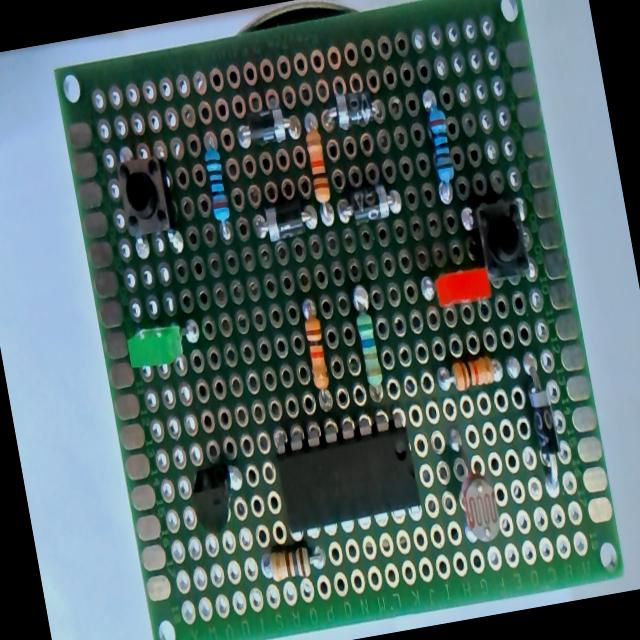IC: (268, 418, 424, 536)
cds: (446, 431, 504, 546)
diode: (522, 358, 564, 496), (233, 101, 301, 152), (334, 181, 402, 227), (254, 198, 318, 244), (318, 87, 378, 133)
led: (125, 315, 202, 371), (432, 265, 492, 310)
resistor: (349, 284, 386, 402), (424, 98, 459, 198), (302, 126, 336, 227), (298, 299, 332, 396), (201, 140, 234, 237), (260, 540, 326, 582), (438, 354, 502, 393)
switch: (114, 148, 182, 255), (474, 196, 530, 282)
transistor: (187, 461, 240, 536)
